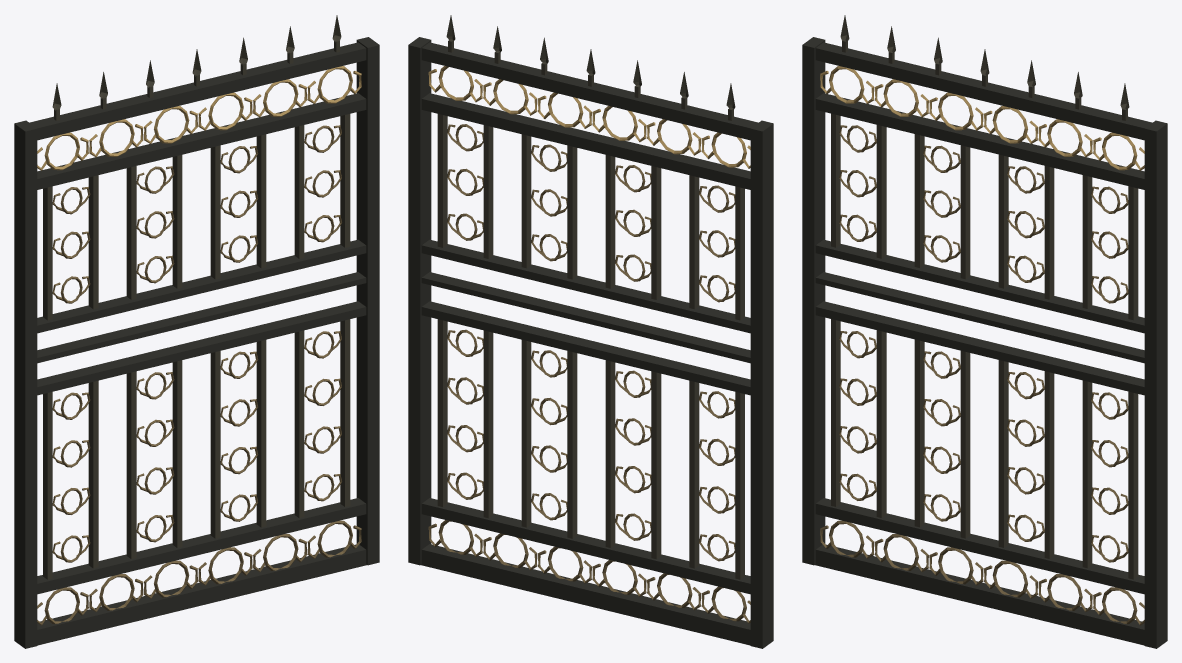
File: huangpu-jingcun-lane-36-east-scroll-gate-lod.glb
3 views of the same model, side by side, from view 1: azimuth 30°, elevation 25°; view 2: azimuth 150°, elevation 25°; view 3: azimuth 330°, elevation 25° (orthographic).
Parts seen in each view (by area): view 1: 静村绍兴路36弄弄口东侧透花铁门; view 2: 静村绍兴路36弄弄口东侧透花铁门; view 3: 静村绍兴路36弄弄口东侧透花铁门.
Boxes of the visible parts, x1=… form: 静村绍兴路36弄弄口东侧透花铁门: x1=14, y1=15, x2=379, y2=648; 静村绍兴路36弄弄口东侧透花铁门: x1=408, y1=15, x2=773, y2=648; 静村绍兴路36弄弄口东侧透花铁门: x1=802, y1=15, x2=1167, y2=648.
Size of the model in its own units: 1.66 by 2.48 by 0.09.
